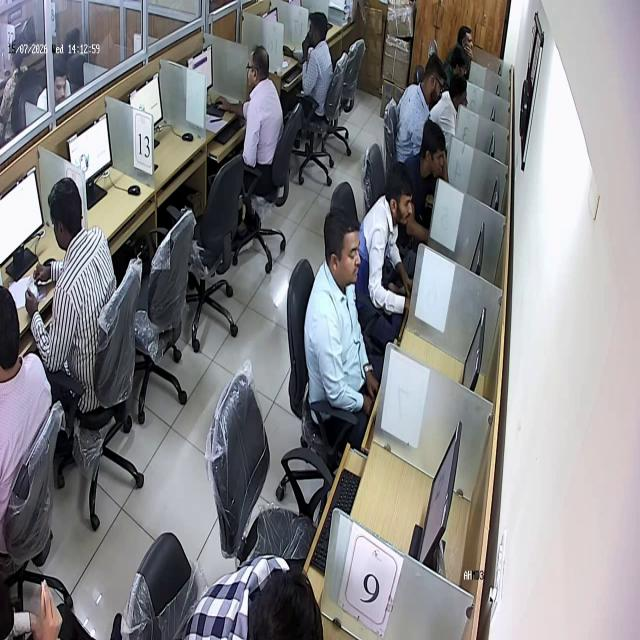paper-chit: (26, 272, 43, 302)
